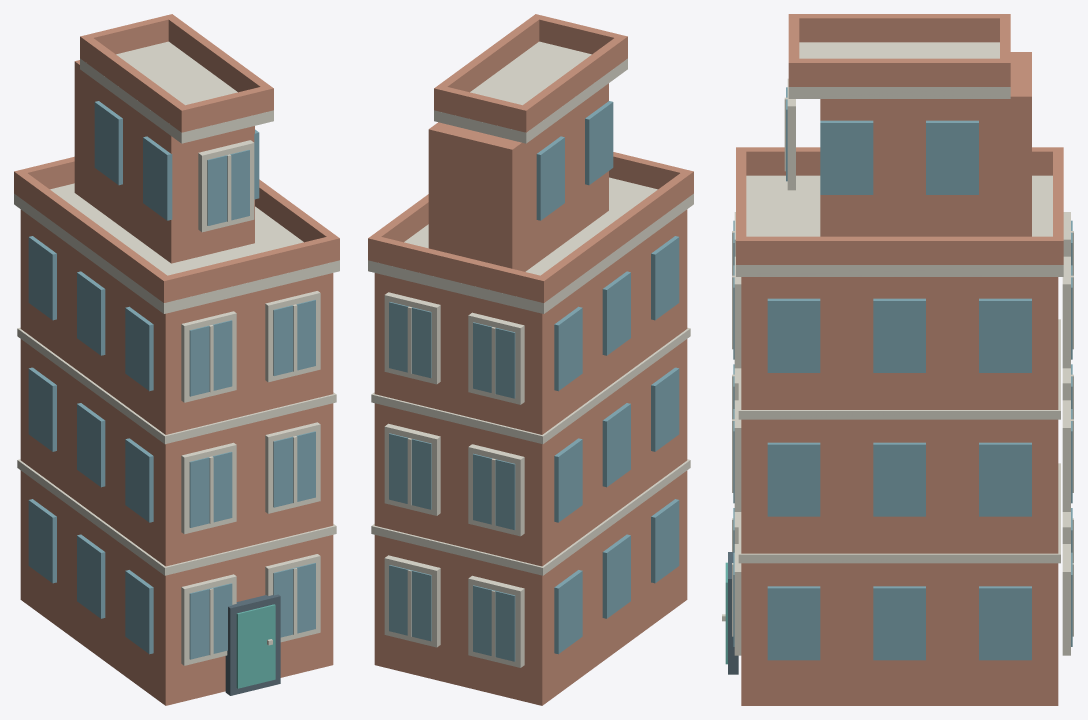
File: voxel-city-districts-stepped-townhouse-6d6c521c__24764.glb
3 views of the same model, side by side, from view 1: azimuth 30°, elevation 25°; view 2: azimuth 150°, elevation 25°; view 3: azimuth 270°, elevation 25° (orthographic). The views are drawn at different scales.
Visible parts, largest first — view 1: stepped-townhouse-brick, stepped-townhouse-glass, stepped-townhouse-concrete, stepped-townhouse-accent, stepped-townhouse-dark; view 2: stepped-townhouse-brick, stepped-townhouse-glass, stepped-townhouse-concrete; view 3: stepped-townhouse-brick, stepped-townhouse-glass, stepped-townhouse-concrete, stepped-townhouse-dark.
Part boxes in pixels (x1=…): stepped-townhouse-brick: x1=14, y1=14, x2=339, y2=705; stepped-townhouse-glass: x1=28, y1=101, x2=315, y2=659; stepped-townhouse-concrete: x1=14, y1=41, x2=339, y2=665; stepped-townhouse-accent: x1=236, y1=604, x2=275, y2=688; stepped-townhouse-dark: x1=225, y1=594, x2=280, y2=695; stepped-townhouse-brick: x1=368, y1=14, x2=693, y2=705; stepped-townhouse-glass: x1=389, y1=101, x2=679, y2=661; stepped-townhouse-concrete: x1=368, y1=41, x2=693, y2=667; stepped-townhouse-brick: x1=736, y1=14, x2=1063, y2=705; stepped-townhouse-glass: x1=733, y1=87, x2=1072, y2=660; stepped-townhouse-concrete: x1=722, y1=42, x2=1073, y2=655; stepped-townhouse-dark: x1=728, y1=552, x2=738, y2=674.
Bounding box in the file's own units: 4.2 × 13 × 6.65.
